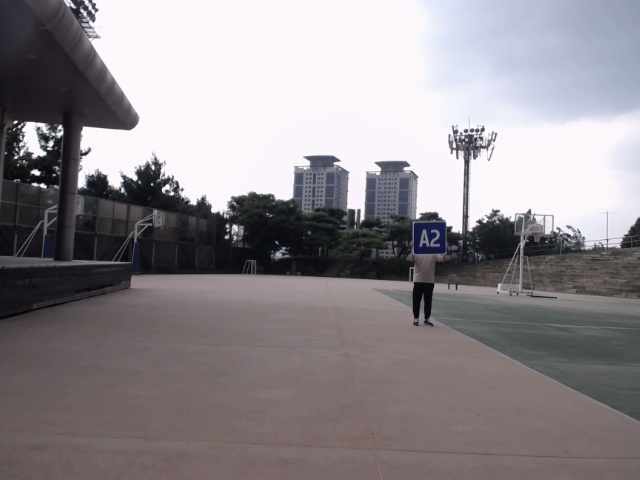delivery_a2: (413, 222, 447, 254)
